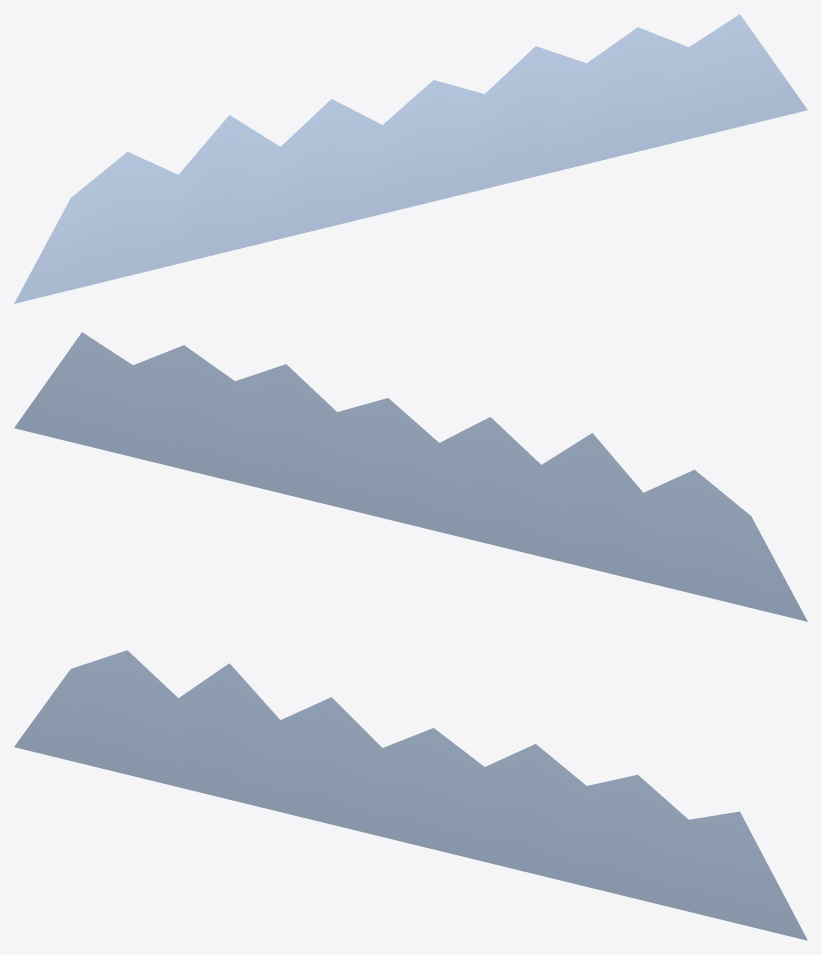
The model's file is bg_mountains_far.glb.
3 views of the same model, one above another, from view 1: azimuth 30°, elevation 25°; view 2: azimuth 150°, elevation 25°; view 3: azimuth 330°, elevation 25° (orthographic).
Bounding box in the file's own units: 2800 × 460 × 0.
